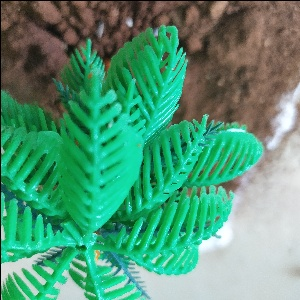plant: (5, 27, 279, 300)
